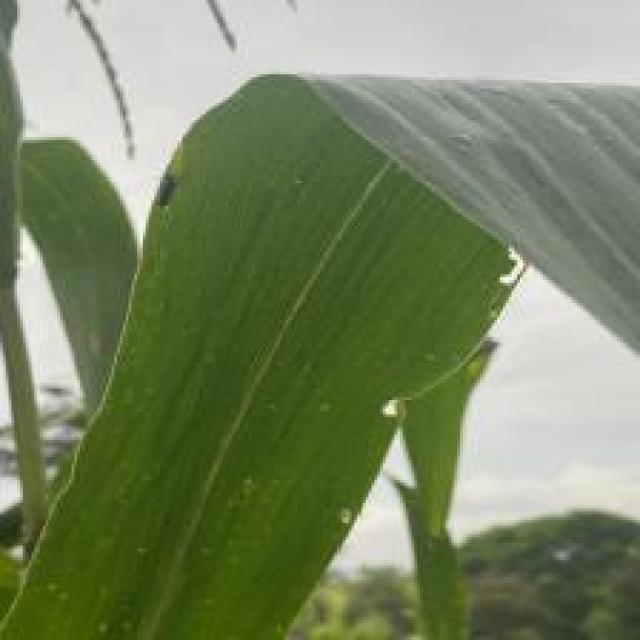Plaga: (147, 173, 195, 233)
